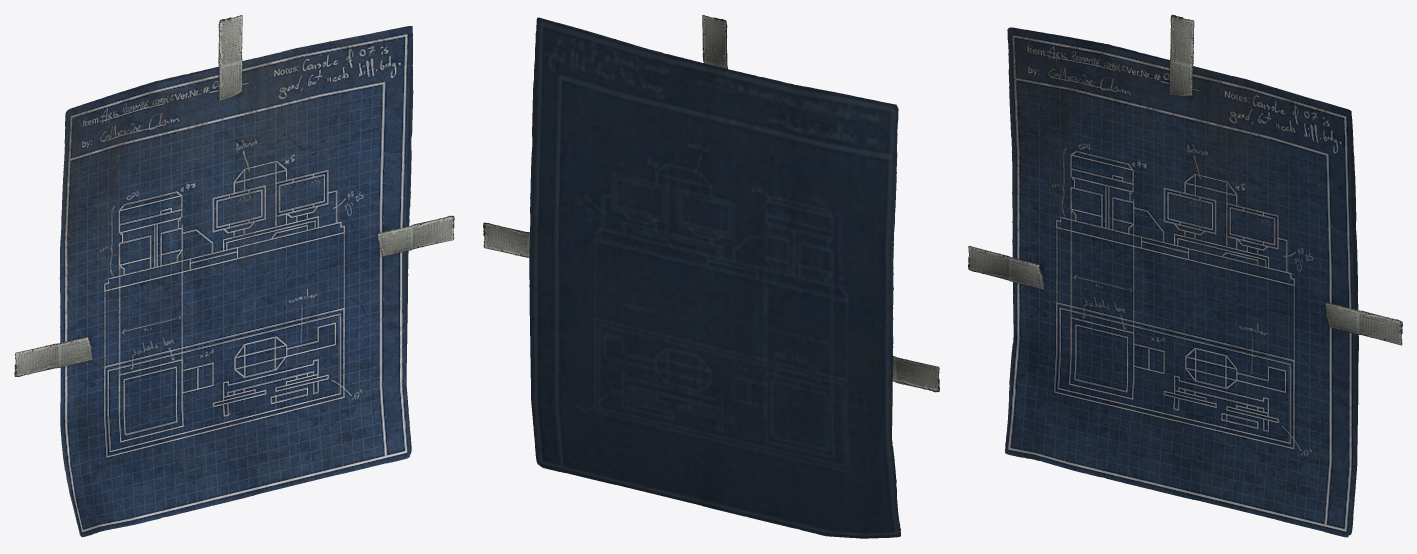
Rendered from 02_05_ark_blueprint01.dae.
The picture shows the model from 3 angles, left to right: view 1: azimuth 30°, elevation 25°; view 2: azimuth 150°, elevation 25°; view 3: azimuth 330°, elevation 25°; orthographic projection. The views are drawn at different scales.
Parts seen in each view (by area): view 1: ark_blueprint01; view 2: ark_blueprint01; view 3: ark_blueprint01.
Boxes of the visible parts, x1,y1,x2,y2 form: ark_blueprint01: [14, 15, 454, 536]; ark_blueprint01: [483, 15, 939, 538]; ark_blueprint01: [968, 14, 1402, 537].
Bounding box in the file's own units: 0.991 × 1.03 × 0.0622.
